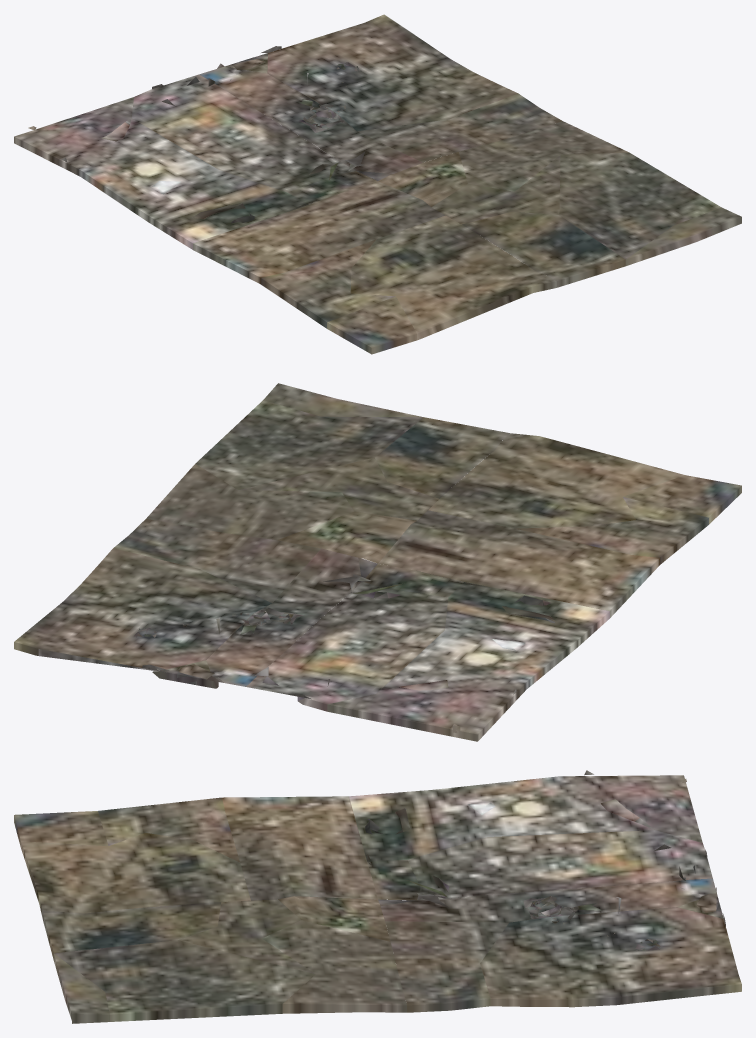
3 views of the same model, one above another, from view 1: azimuth 30°, elevation 25°; view 2: azimuth 150°, elevation 25°; view 3: azimuth 270°, elevation 25° (orthographic). The views are drawn at different scales.
Parts seen in each view (by area): view 1: Mesh_0; view 2: Mesh_0; view 3: Mesh_0.
Boxes of the visible parts, x1,y1,x2,y2 form: Mesh_0: (14, 14, 741, 354); Mesh_0: (14, 383, 741, 741); Mesh_0: (14, 770, 741, 1023).
Bounding box in the file's own units: 2129 × 149 × 2635.
1 material, 1 textured.
